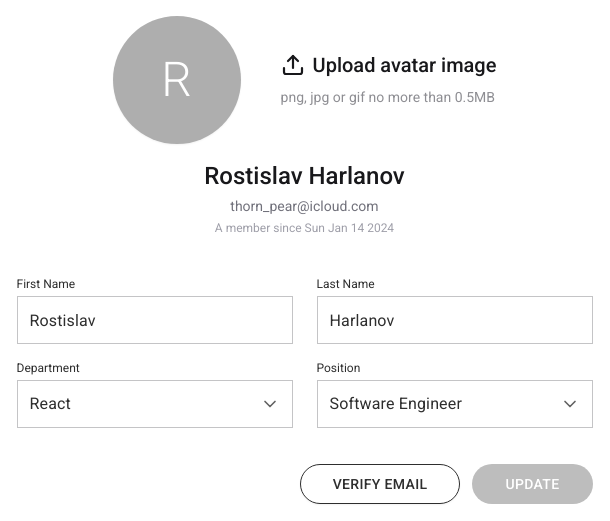
Test: ProfileForm Component › enables Update button when form is edited
Replace the text in the field labelled "First Name" with "UpdatedName" at (154, 320), box [16,296,292,344]
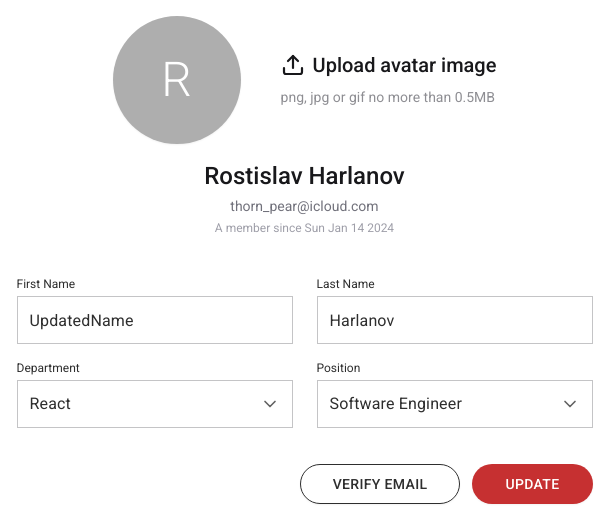
Check: the button "Update" is enabled, box [472,464,592,504]
